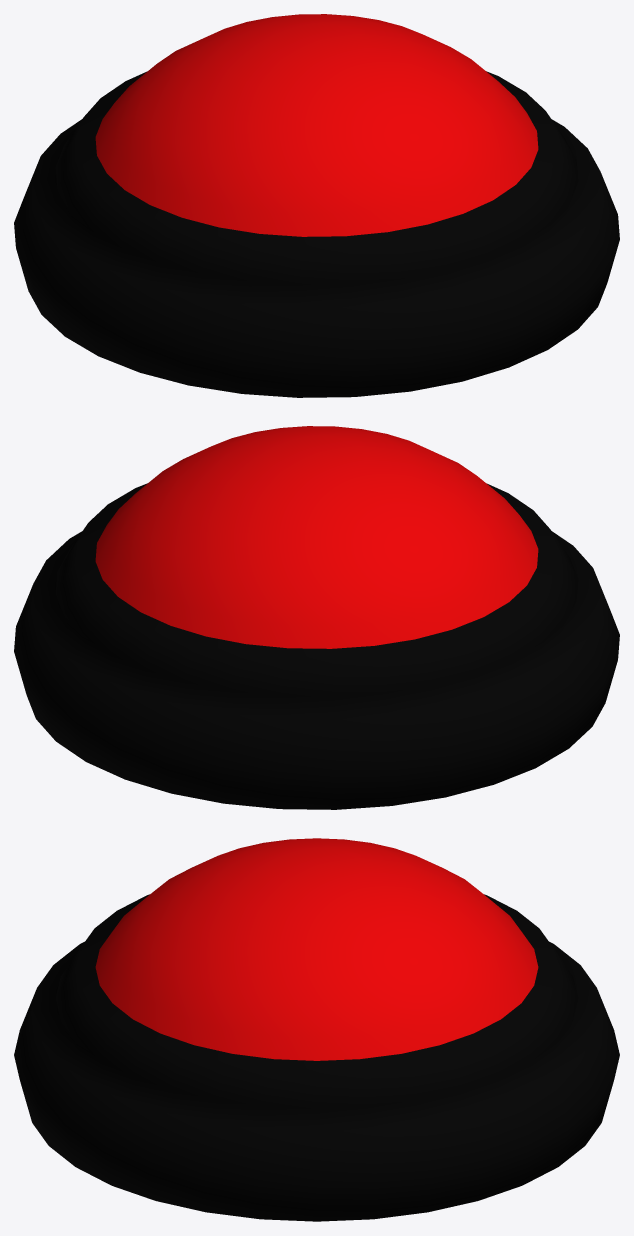
Rendered from Boton-Rojo.glb.
3 renders of one model, top to bottom at view 1: azimuth 30°, elevation 25°; view 2: azimuth 150°, elevation 25°; view 3: azimuth 270°, elevation 25°, orthographic.
Visible parts, largest first — view 1: Cylinder; view 2: Cylinder; view 3: Cylinder.
Boxes of the visible parts, <box> form: Cylinder: <box>14,14,619,397</box>; Cylinder: <box>14,426,619,809</box>; Cylinder: <box>14,838,619,1221</box>.
Size of the model in its own units: 0.6261 by 0.2663 by 0.6261.
